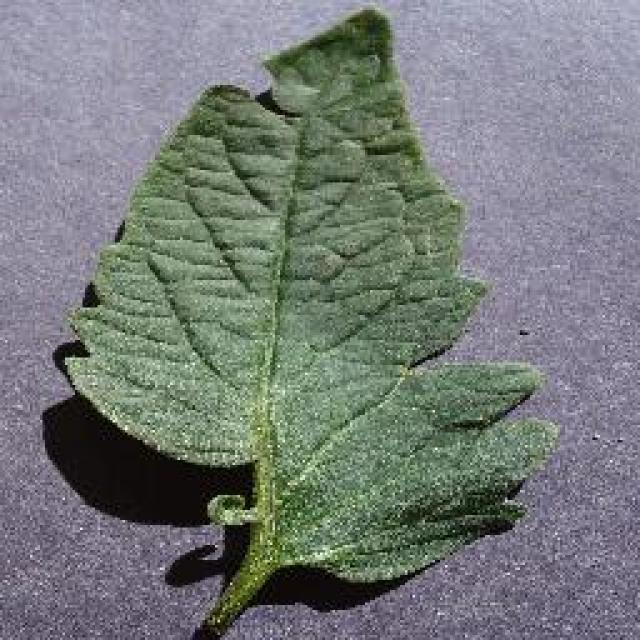Tomato_Healthy: (57, 9, 560, 592)
